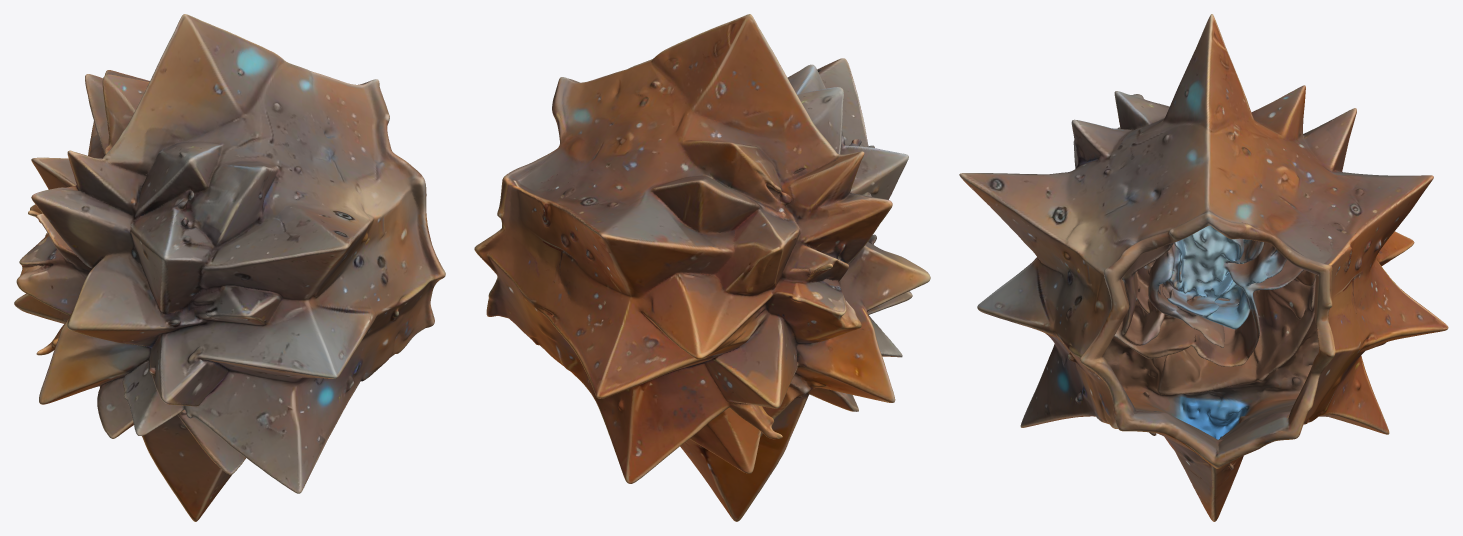
Rendered from شرارة_السديم.glb.
3 renders of one model, left to right at view 1: azimuth 30°, elevation 25°; view 2: azimuth 150°, elevation 25°; view 3: azimuth 270°, elevation 25°, orthographic.
Parts seen in each view (by area): view 1: tripo_node_d7c78534-b07c-48c8-8021-221719cbd864; view 2: tripo_node_d7c78534-b07c-48c8-8021-221719cbd864; view 3: tripo_node_d7c78534-b07c-48c8-8021-221719cbd864.
Part boxes in pixels (x1,y1,x2,y2): tripo_node_d7c78534-b07c-48c8-8021-221719cbd864: [14, 14, 445, 521]; tripo_node_d7c78534-b07c-48c8-8021-221719cbd864: [474, 14, 930, 521]; tripo_node_d7c78534-b07c-48c8-8021-221719cbd864: [959, 14, 1448, 521].
Size of the model in its own units: 0.7582 by 0.9999 by 0.8838.
Materials: 1 (1 with a texture image).
